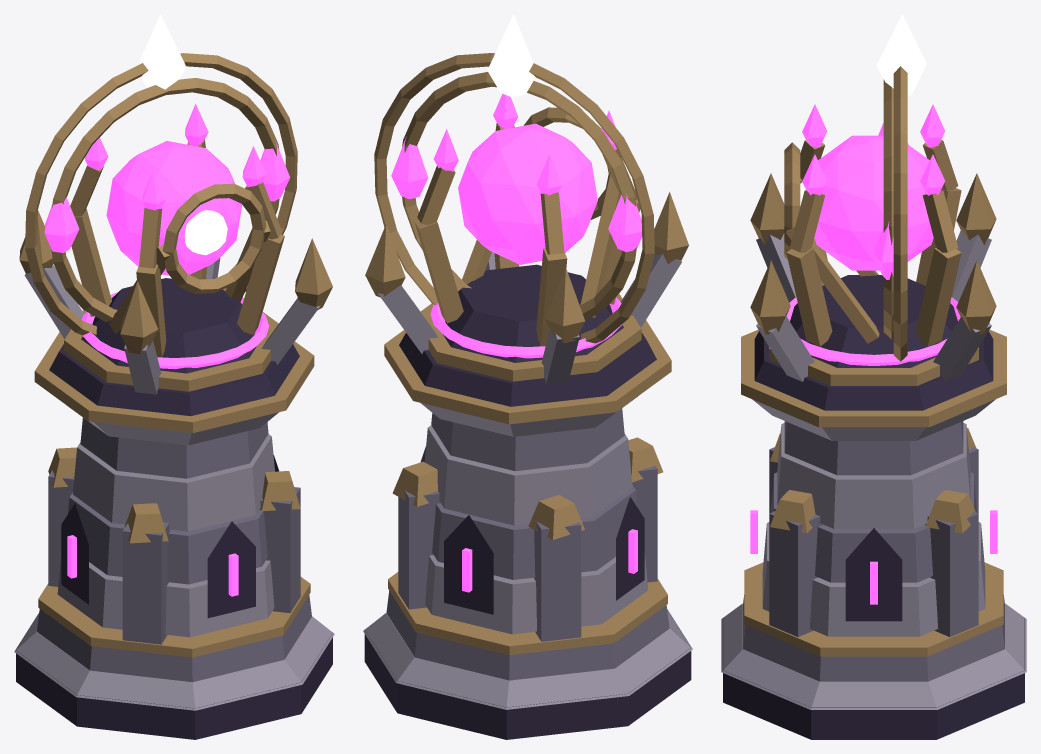
File: Magic_Tower_L4.fbx
The picture shows the model from 3 angles, left to right: view 1: azimuth 30°, elevation 25°; view 2: azimuth 150°, elevation 25°; view 3: azimuth 270°, elevation 25°; orthographic projection. The views are drawn at different scales.
Visible parts, largest first — view 1: Base_L3, Head_L3; view 2: Base_L3, Head_L3; view 3: Base_L3, Head_L3.
Part boxes in pixels (x1,y1,x2,y2): Base_L3: (14,332,334,739); Head_L3: (19,14,332,394); Base_L3: (363,320,692,739); Head_L3: (365,14,688,384); Base_L3: (721,329,1026,739); Head_L3: (750,14,996,385).
Bounding box in the file's own units: 1.81 × 4.12 × 1.72.
